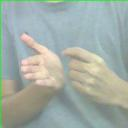hand: (62, 46, 127, 111), (19, 31, 64, 92)
